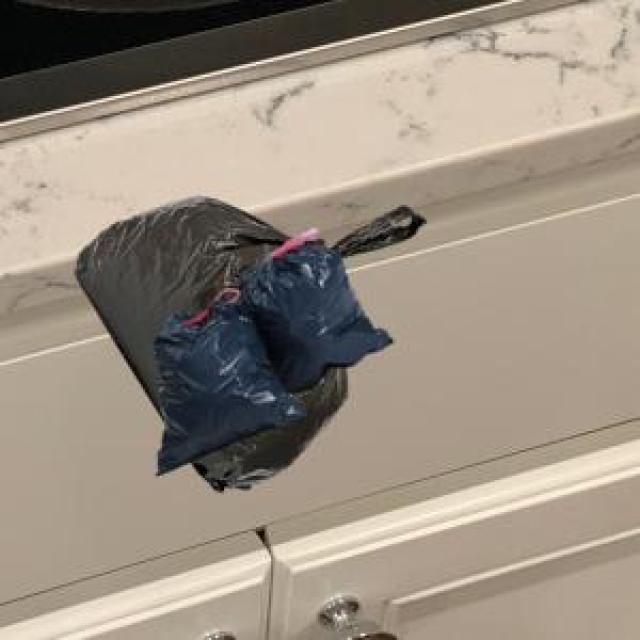waste: (79, 198, 425, 489)
